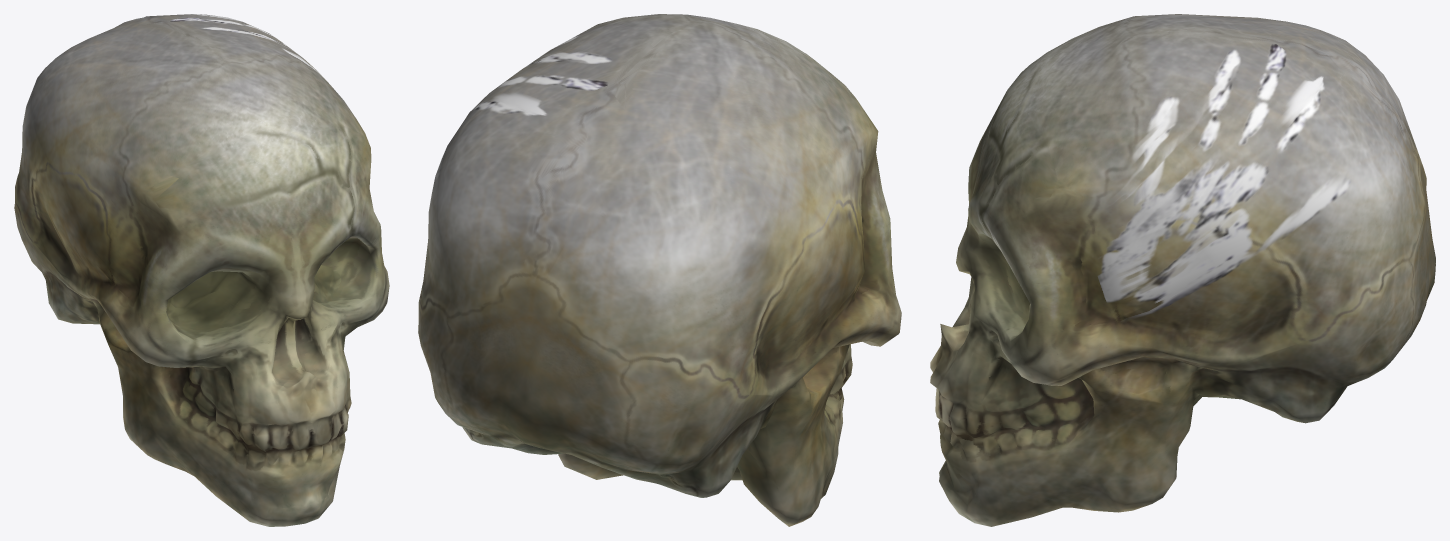
Rendered from Skull.FBX.
The picture shows the model from 3 angles, left to right: view 1: azimuth 30°, elevation 25°; view 2: azimuth 150°, elevation 25°; view 3: azimuth 270°, elevation 25°; orthographic projection. The views are drawn at different scales.
Parts seen in each view (by area): view 1: Skull; view 2: Skull; view 3: Skull.
Part boxes in pixels (bbox=[...]): Skull: bbox=[14, 14, 389, 526]; Skull: bbox=[418, 14, 901, 526]; Skull: bbox=[930, 14, 1435, 526].
Size of the model in its own units: 680 by 954 by 992.
